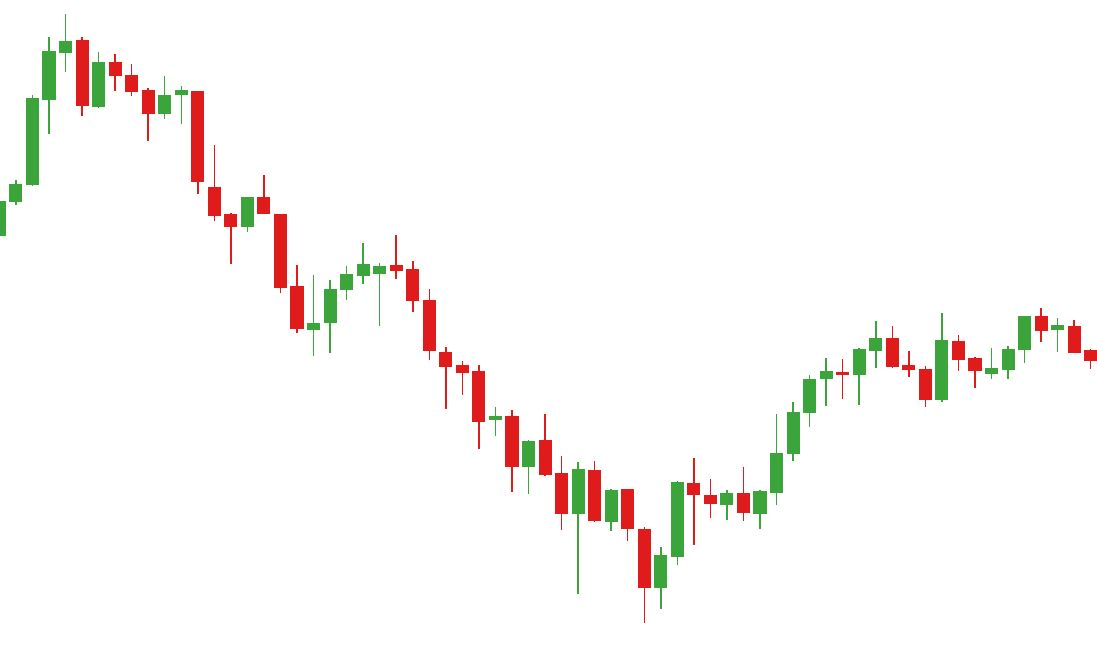buy: (570, 517, 667, 624)
